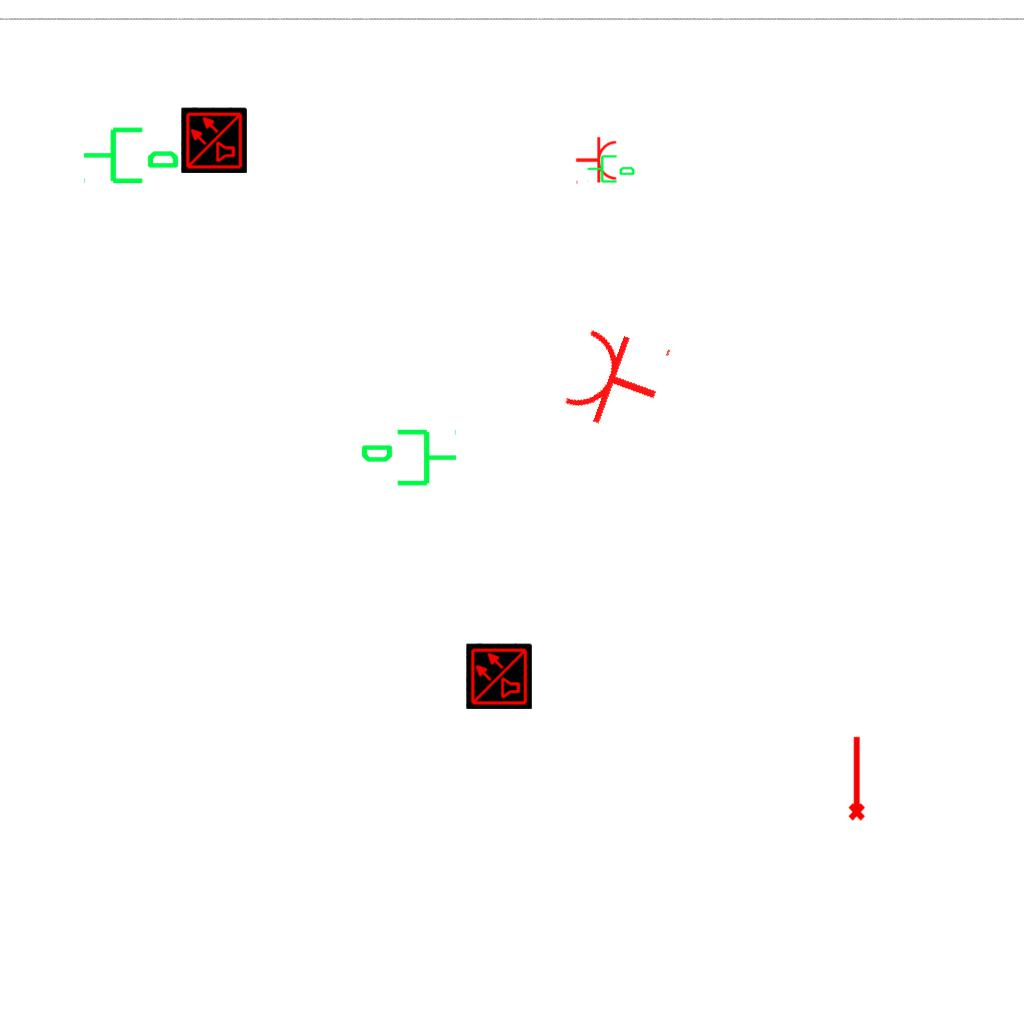ASR_Ansaugoeffnung: (844, 734, 867, 822)
Datenanschluss_einfach: (359, 425, 459, 494), (81, 119, 181, 188), (586, 151, 636, 185)
OKW_Multisensormelder_(Kombination_optischer_Rauch-Kahlenmonoxid_Waerme-Melder): (466, 643, 532, 709), (181, 107, 247, 173)
Schukosteckdose_einfach: (558, 317, 675, 441), (575, 136, 618, 186)
